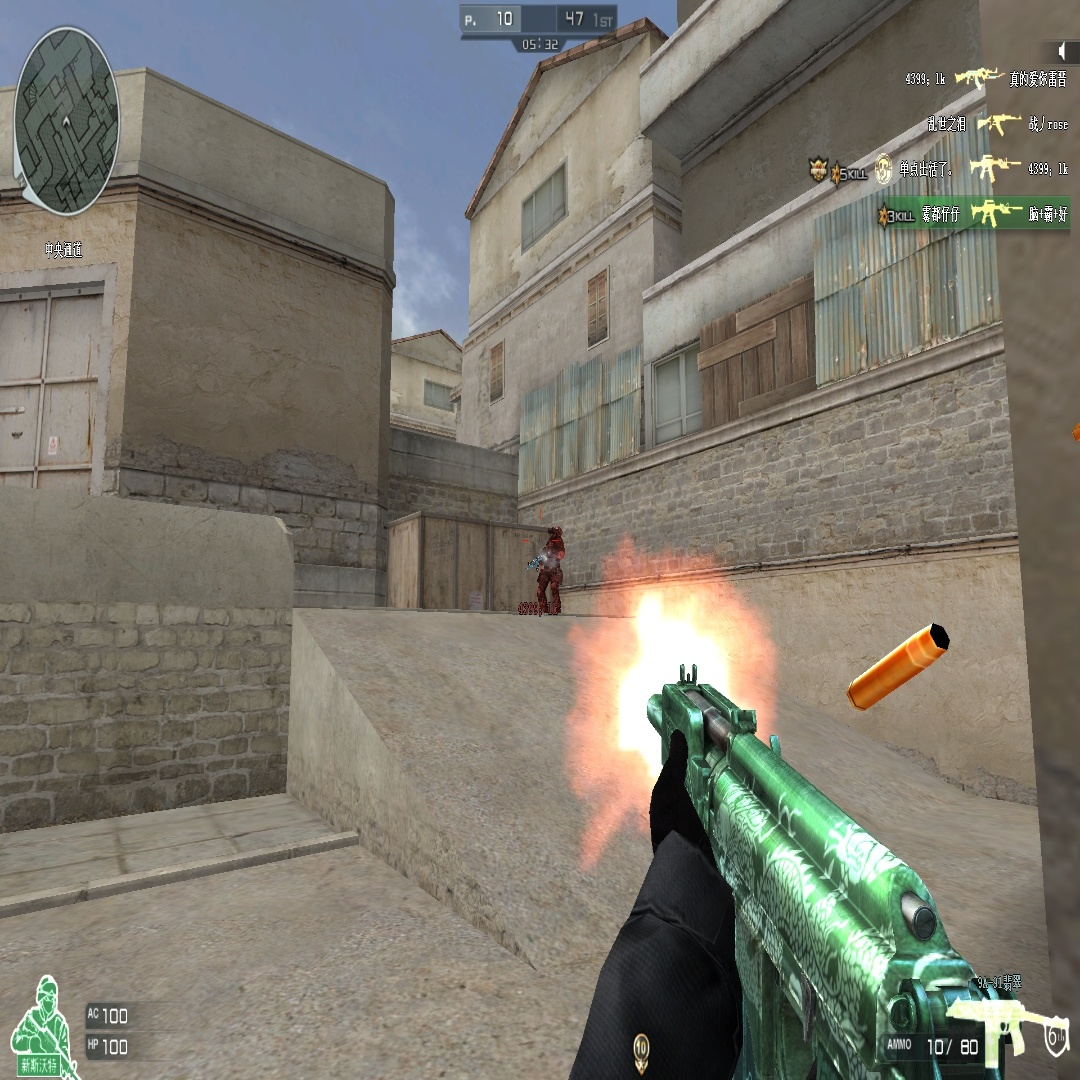head: (550, 524, 564, 539)
p: (532, 535, 565, 615)
